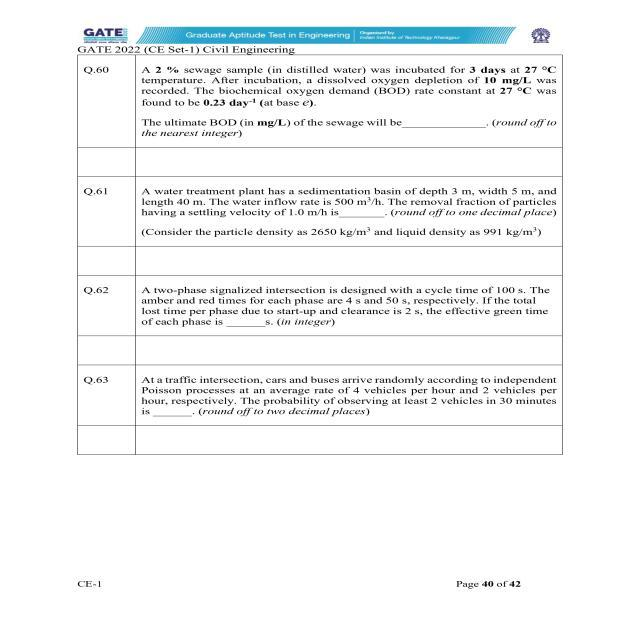Question_Answer_Block: (77, 56, 560, 148), (76, 178, 564, 245), (78, 278, 562, 334), (79, 368, 562, 423)
Question_Block: (79, 57, 560, 147), (77, 178, 564, 247), (78, 278, 558, 332), (78, 368, 558, 421)
Question_Paper_Area: (76, 55, 562, 452)
